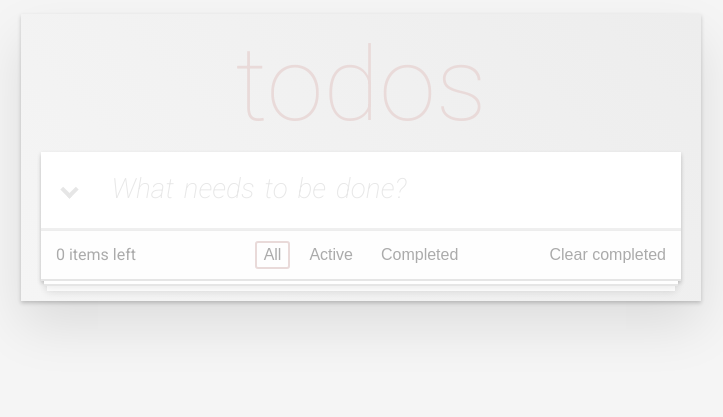
Test: Todos › clears completed tasks
Type "Clean house" into the field with placeholder "What needs to be done?" at (361, 190), box 41,152 -> 681,228
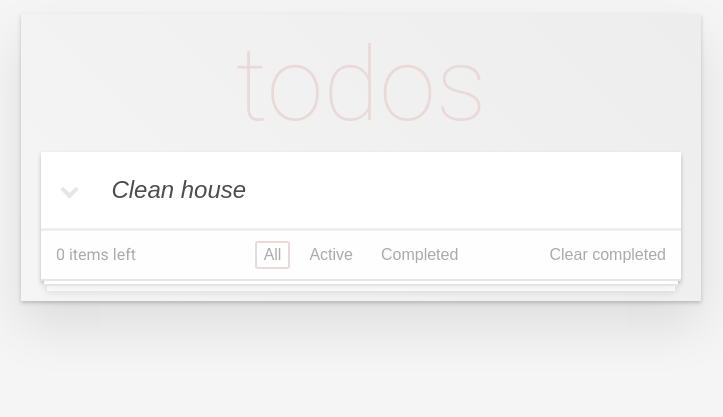
Press Enter in the field with placeholder "What needs to be done?", box 41,152 -> 681,228
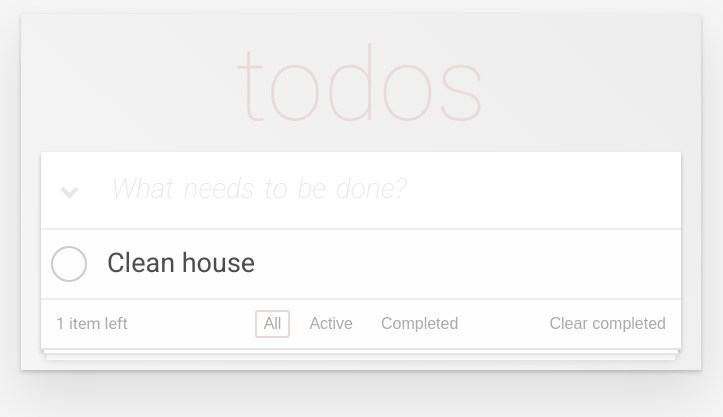
Click the list item "Clean house" at (361, 264), box 41,230 -> 681,299
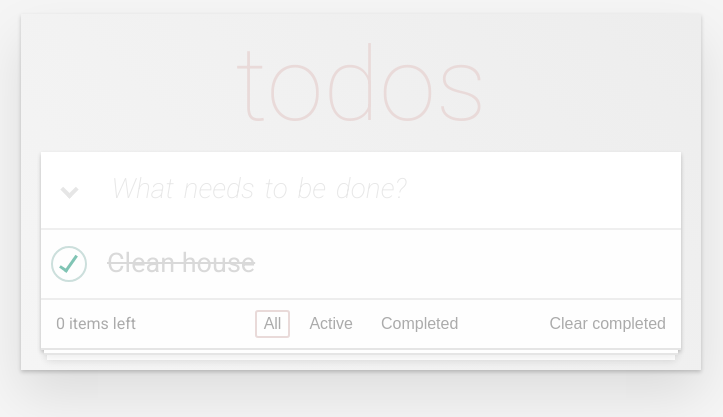
Click the button with aria-label "clear completed tasks" at (608, 324), box 550,315 -> 666,333
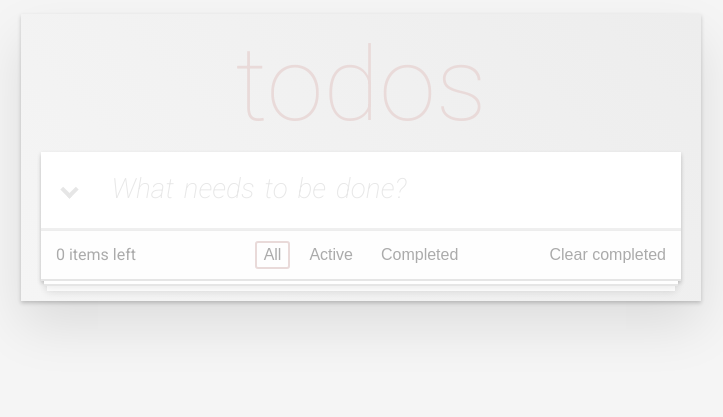
Now the list item "Clean house" is gone
